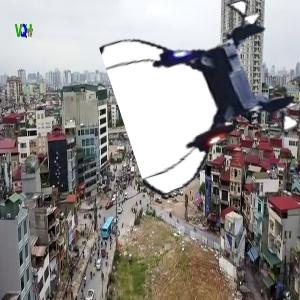drone: (119, 3, 298, 182)
